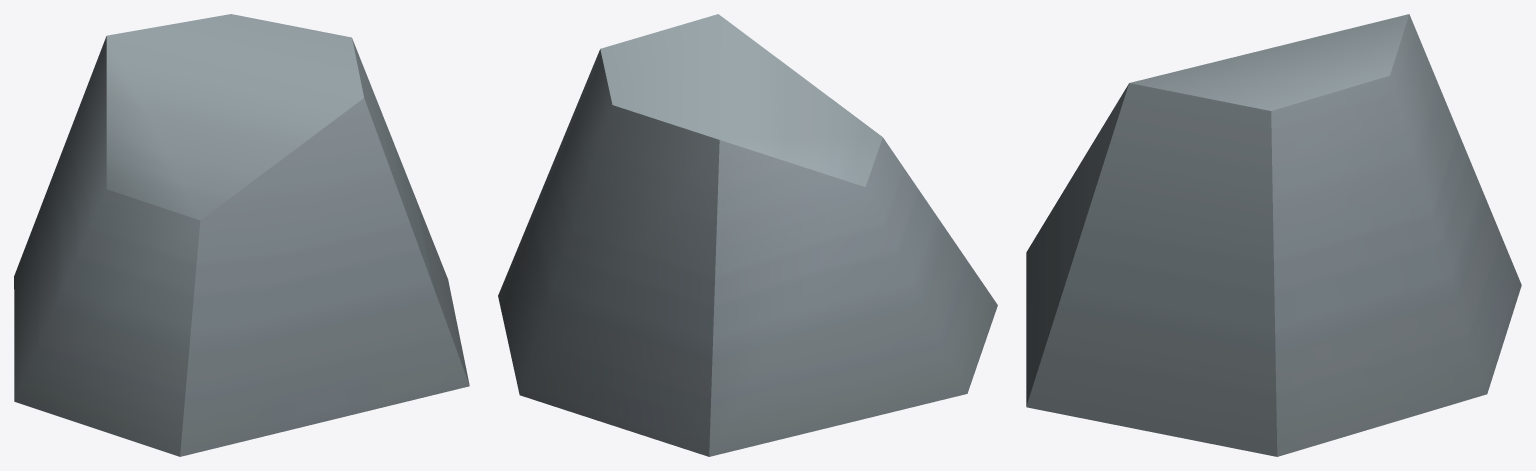
File: rock-flat.glb
The picture shows the model from 3 angles, left to right: view 1: azimuth 30°, elevation 25°; view 2: azimuth 150°, elevation 25°; view 3: azimuth 270°, elevation 25°; orthographic projection. The views are drawn at different scales.
Parts seen in each view (by area): view 1: rock_single_D; view 2: rock_single_D; view 3: rock_single_D.
Boxes of the visible parts, x1,y1,x2,y2 form: rock_single_D: (14,14,469,456); rock_single_D: (498,14,997,456); rock_single_D: (1026,14,1521,456).
Bounding box in the file's own units: 0.2866 × 0.1629 × 0.2497.
1 material, 1 textured.
